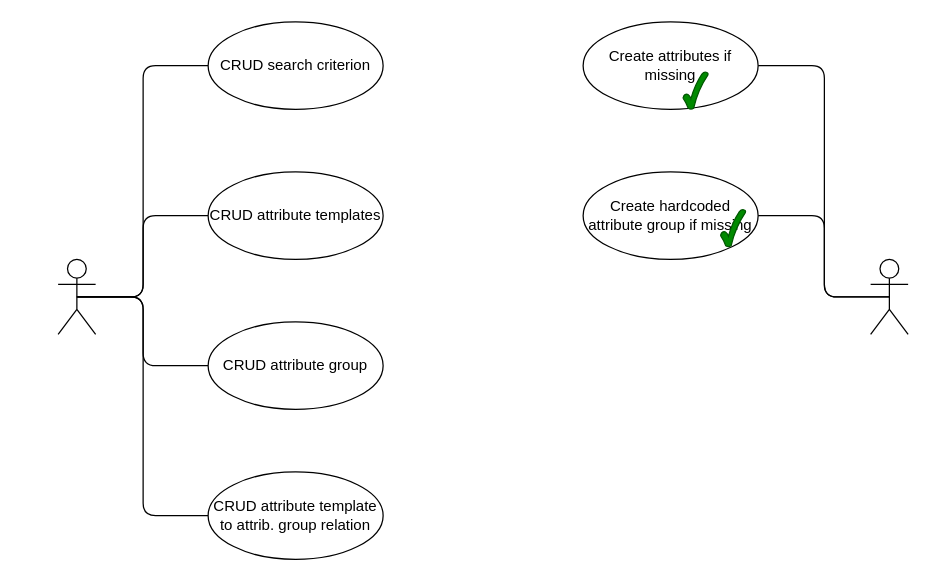
The diagram is 935 pixels wide and 581 high, and some of its shapes have lost their labels. Each missing label, with the centre of its shape:
"Fleetresponsible" goes at pixel 76 296.
"Service" goes at pixel 888 296.
